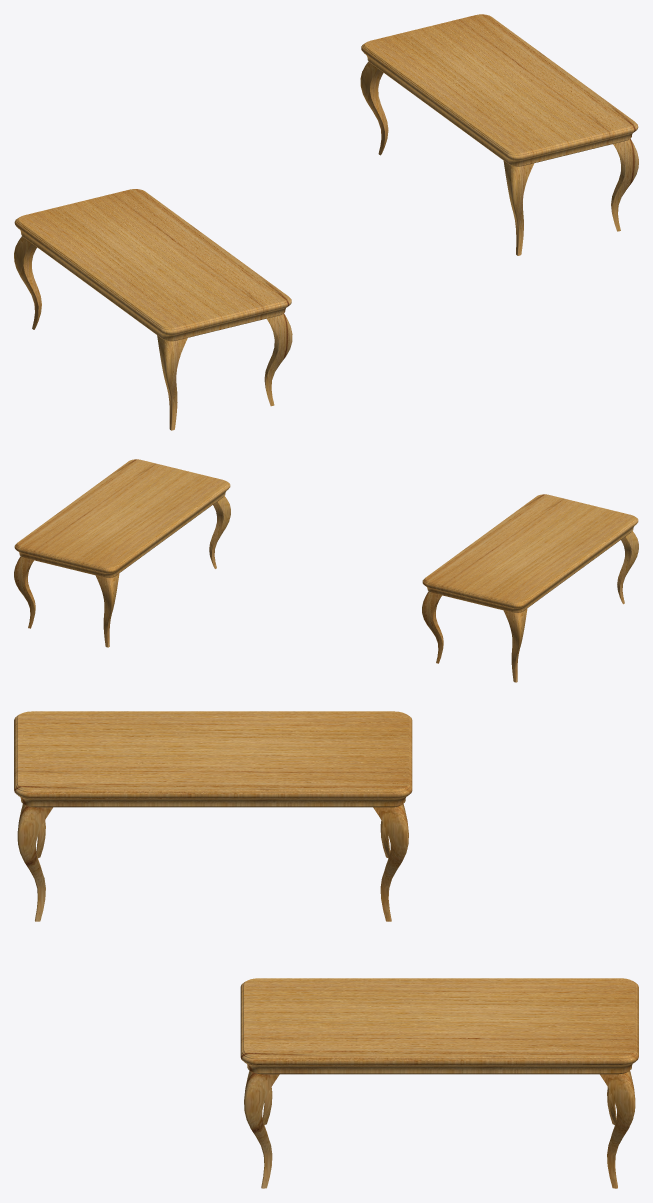
File: mesa1.obj
The picture shows the model from 3 angles, top to bottom: view 1: azimuth 30°, elevation 25°; view 2: azimuth 150°, elevation 25°; view 3: azimuth 270°, elevation 25°; orthographic projection. The views are drawn at different scales.
Parts seen in each view (by area): view 1: Vintage_Furniture_Coffee_Table_OBJ:Vintage_Furniture_Coffee_Tabl; view 2: Vintage_Furniture_Coffee_Table_OBJ:Vintage_Furniture_Coffee_Tabl; view 3: Vintage_Furniture_Coffee_Table_OBJ:Vintage_Furniture_Coffee_Tabl.
Boxes of the visible parts, x1,y1,x2,y2 form: Vintage_Furniture_Coffee_Table_OBJ:Vintage_Furniture_Coffee_Tabl: (14, 14, 638, 430); Vintage_Furniture_Coffee_Table_OBJ:Vintage_Furniture_Coffee_Tabl: (14, 459, 638, 682); Vintage_Furniture_Coffee_Table_OBJ:Vintage_Furniture_Coffee_Tabl: (14, 711, 638, 1188).
Bounding box in the file's own units: 5.8 × 1.1 × 4.34.
1 material, 1 textured.
